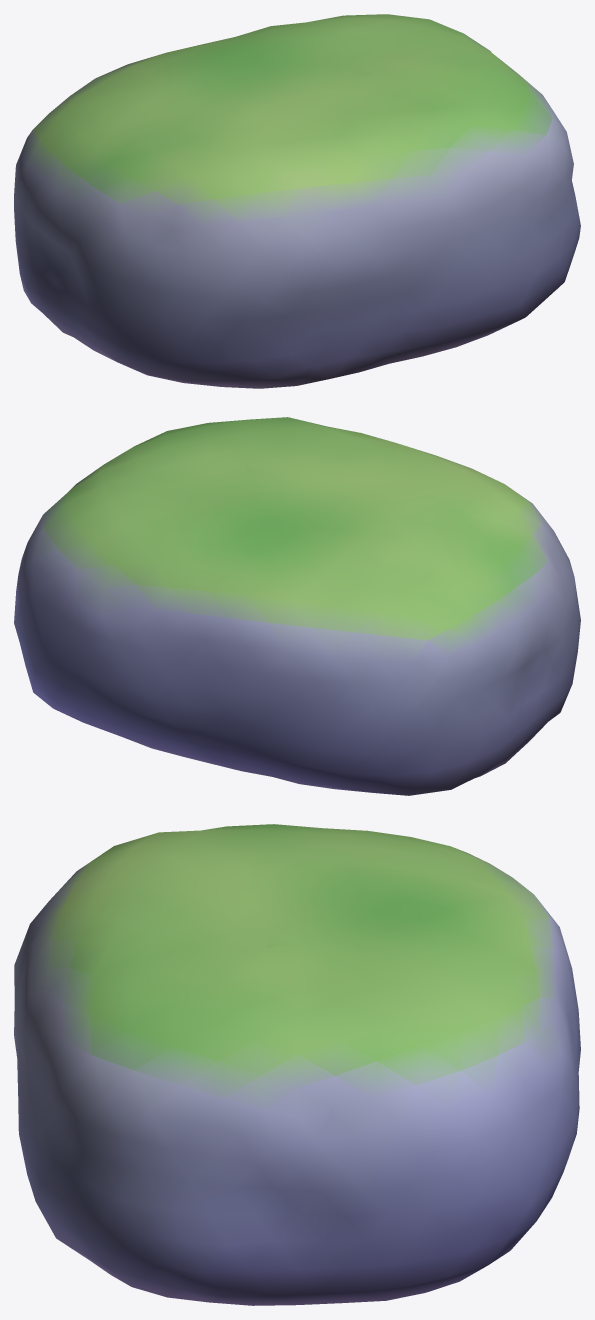
File: verdant_rock_river_a.glb
3 views of the same model, one above another, from view 1: azimuth 30°, elevation 25°; view 2: azimuth 150°, elevation 25°; view 3: azimuth 270°, elevation 25° (orthographic). The views are drawn at different scales.
Visible parts, largest first — view 1: verdant_rock_river_a; view 2: verdant_rock_river_a; view 3: verdant_rock_river_a.
Boxes of the visible parts, left/top/right/bottom form: verdant_rock_river_a: left=14, top=14, right=580, bottom=388; verdant_rock_river_a: left=14, top=417, right=580, bottom=795; verdant_rock_river_a: left=14, top=824, right=580, bottom=1305.
Size of the model in its own units: 1.11 by 0.496 by 0.9117.
